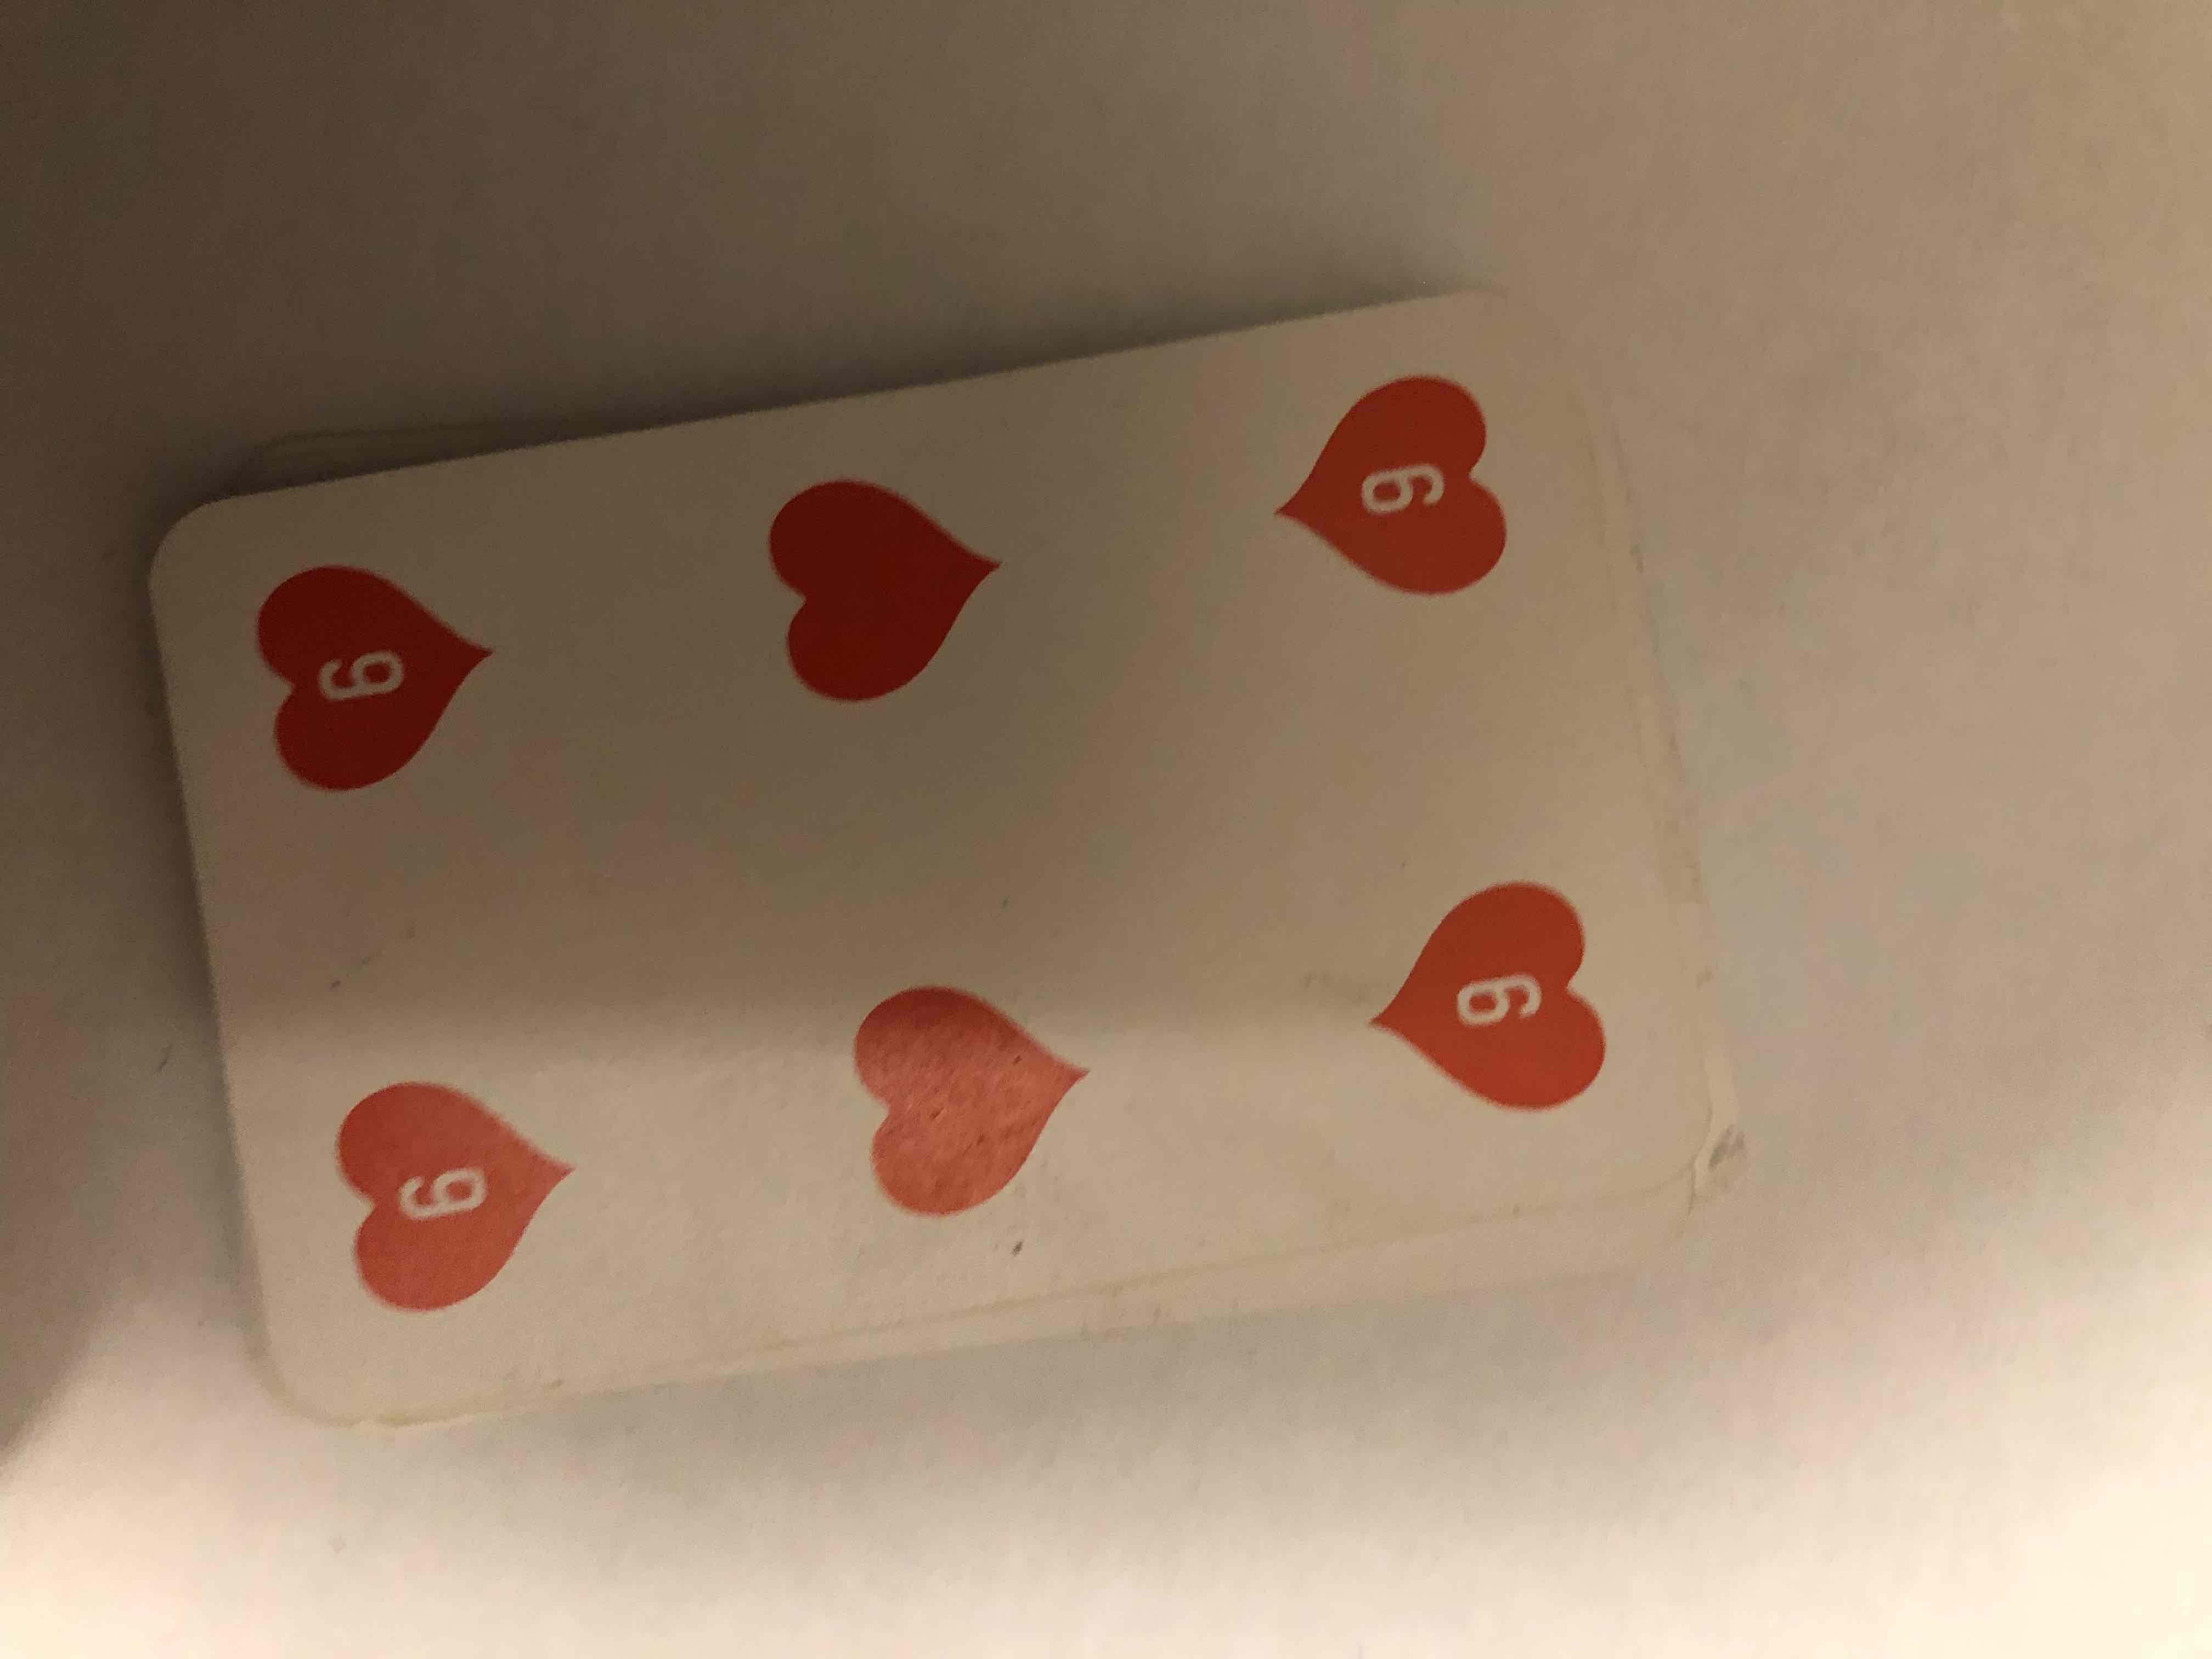hearts6: (122, 387, 1932, 1371)
